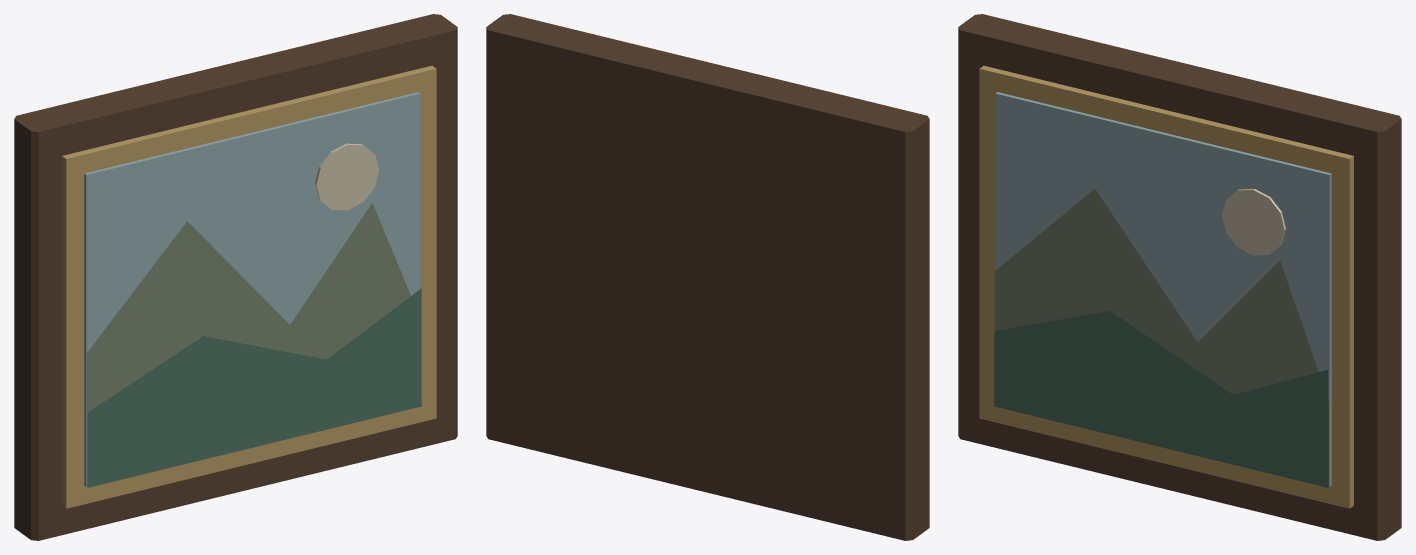
The model's file is painting_wall.glb.
3 renders of one model, left to right at view 1: azimuth 30°, elevation 25°; view 2: azimuth 150°, elevation 25°; view 3: azimuth 330°, elevation 25°, orthographic.
Visible parts, largest first — view 1: geometry; view 2: geometry; view 3: geometry.
Boxes of the visible parts, x1,y1,x2,y2 form: geometry: (14, 14, 457, 540); geometry: (486, 14, 929, 540); geometry: (958, 14, 1401, 540).
Size of the model in its own units: 0.83 by 0.76 by 0.1025.
